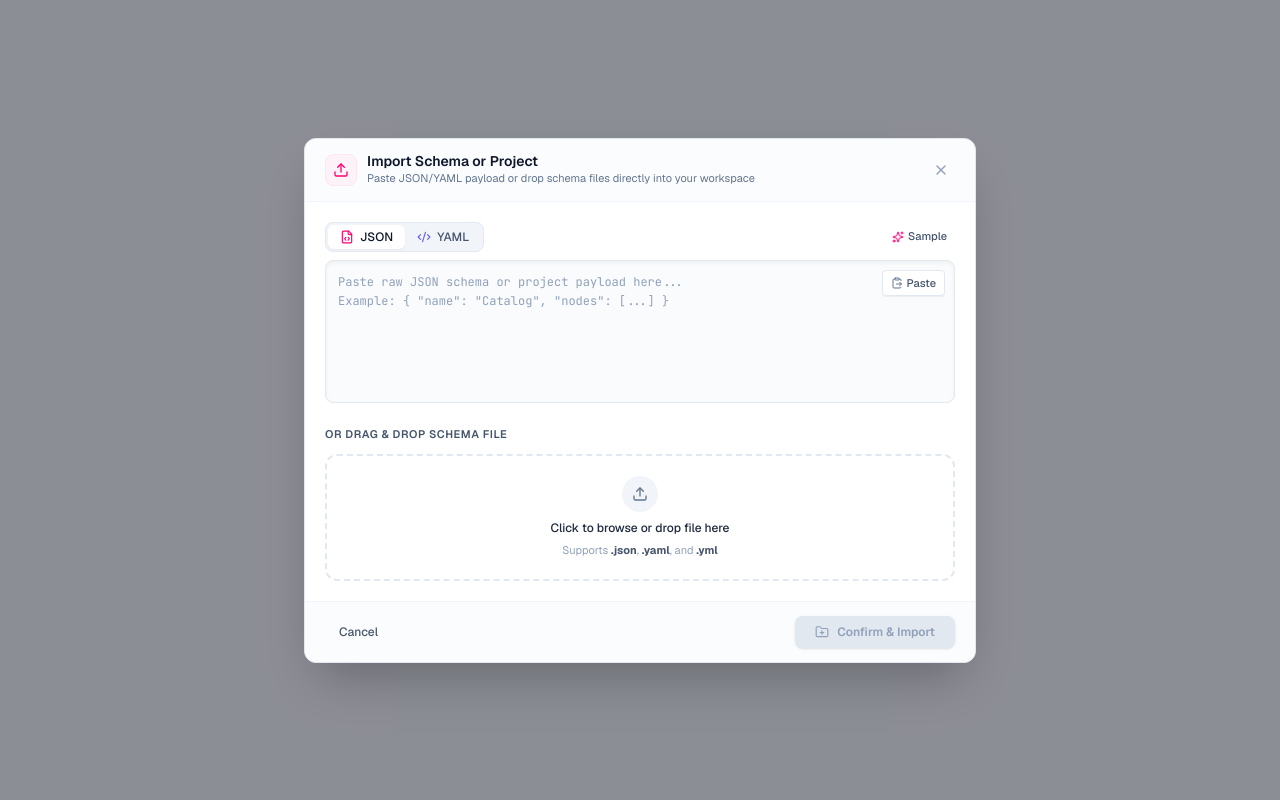
Test: ImportModal Component › renders Paste button when textarea is empty and reads clipboard on click
Click the button "Paste". click: {"x": 913, "y": 283}
box: [882,270,945,296]
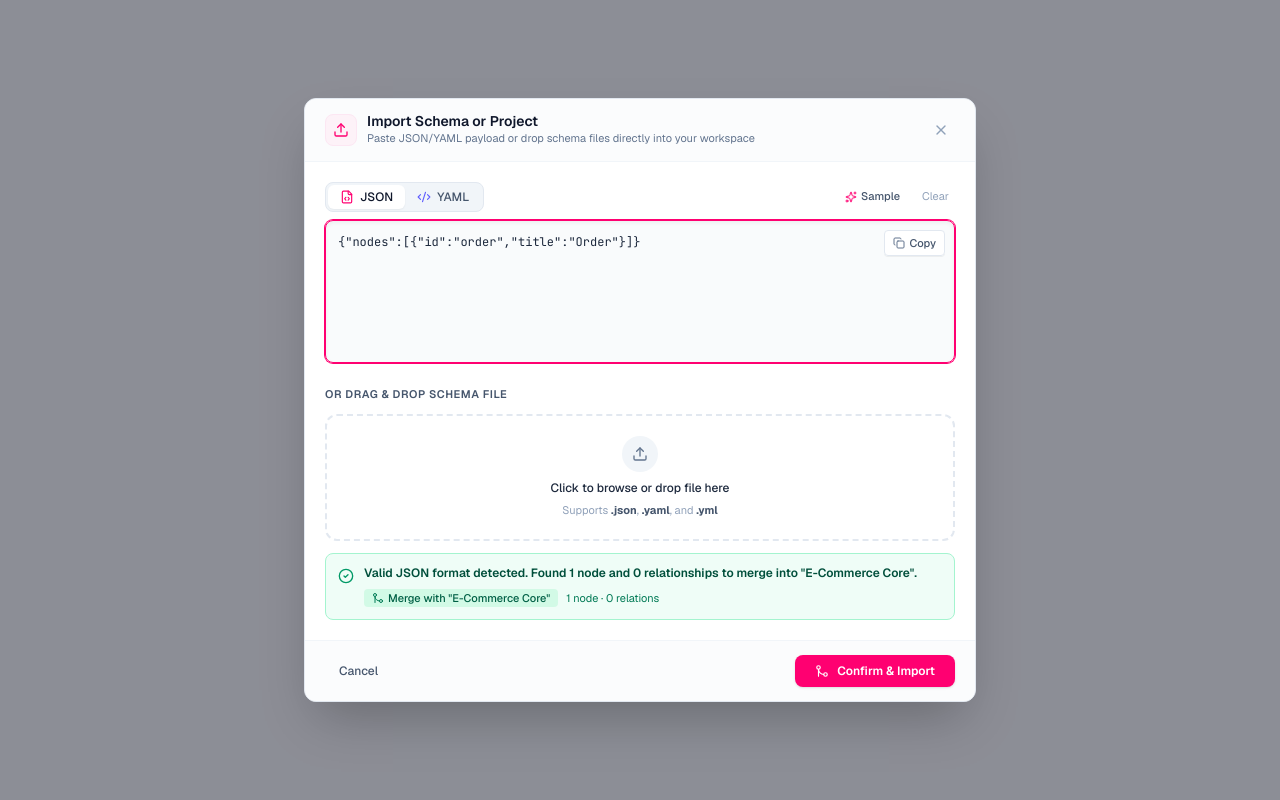
Expected: the text "Found 1 node" is shown, [364,565,917,581]
